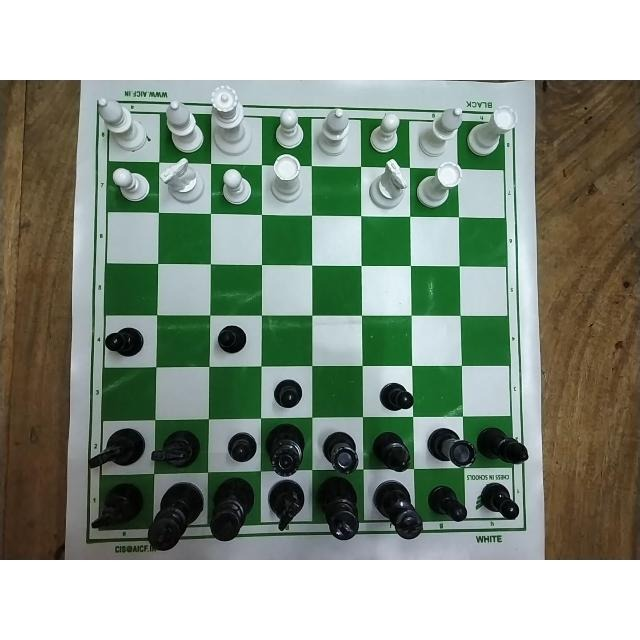black-bishop: (477, 426, 530, 465), (369, 429, 410, 471)
black-king: (150, 482, 204, 550), (373, 479, 423, 541), (315, 475, 359, 543), (209, 478, 255, 542)
black-knight: (91, 481, 143, 533), (87, 427, 145, 471), (266, 481, 306, 531), (152, 429, 200, 469)
black-pawn: (478, 482, 519, 520), (427, 484, 468, 522), (105, 324, 144, 358), (270, 376, 306, 410), (377, 380, 413, 411), (225, 432, 259, 463), (217, 321, 247, 355)
black-queen: (265, 421, 305, 476)
black-rook: (424, 427, 476, 467), (319, 430, 359, 471)
white-bishop: (90, 96, 145, 150), (417, 106, 461, 158), (164, 98, 203, 154), (316, 107, 349, 157)
white-knight: (157, 158, 205, 206), (368, 158, 408, 210)
white-pawn: (367, 110, 401, 154), (110, 166, 149, 203), (218, 167, 252, 206), (276, 108, 304, 150)
white-queen: (208, 83, 251, 156)
white-rook: (466, 105, 518, 157), (417, 161, 461, 211), (268, 153, 304, 203)
